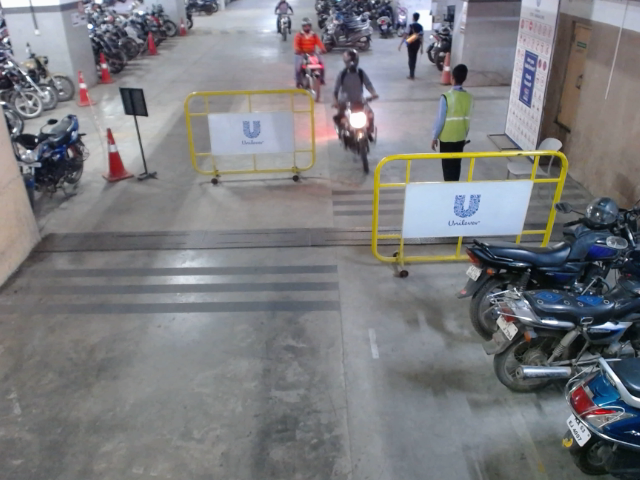with_helmet: (343, 49, 358, 72)
